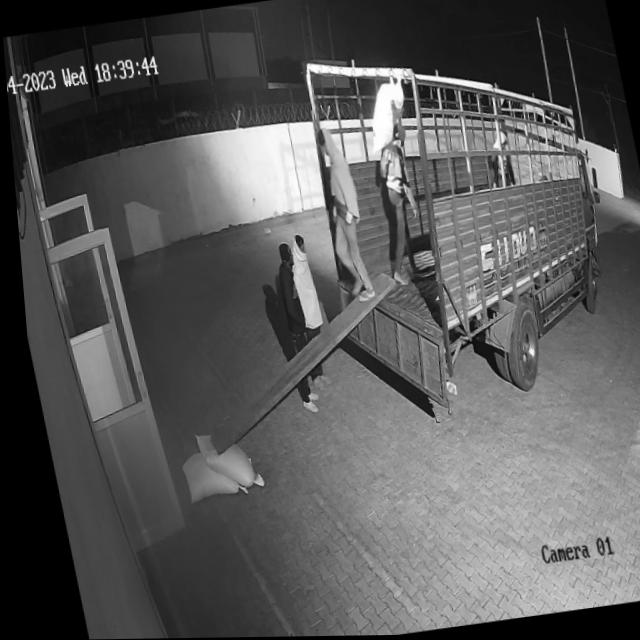sack: (185, 425, 250, 493), (358, 82, 411, 155), (171, 446, 234, 502)
